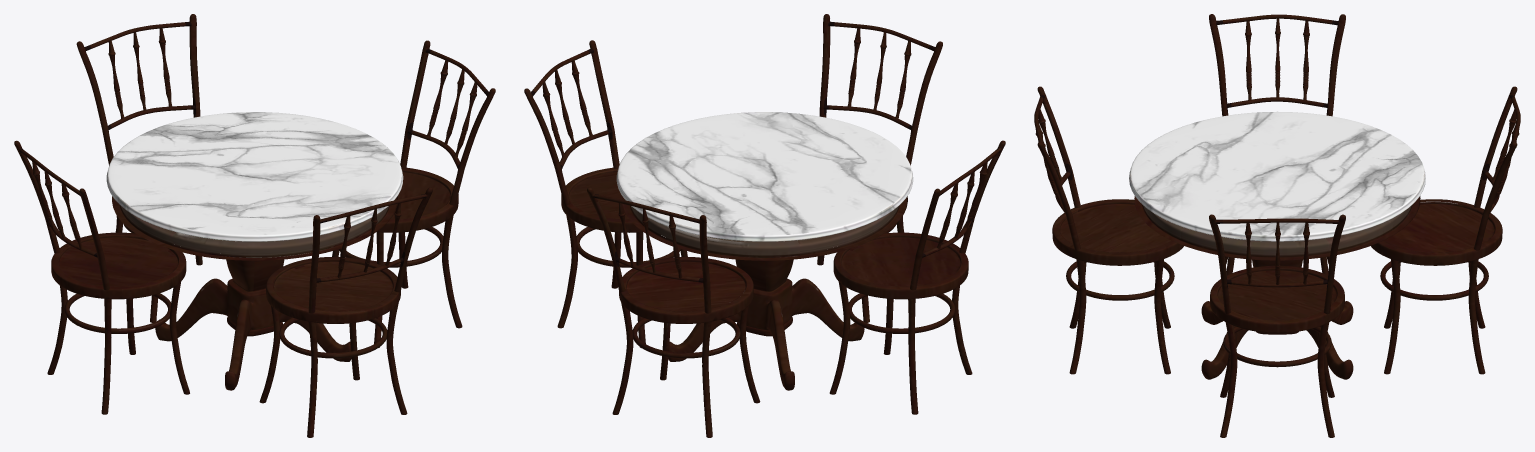
The model's file is coffeeshop_furniture_set.glb.
3 renders of one model, left to right at view 1: azimuth 30°, elevation 25°; view 2: azimuth 150°, elevation 25°; view 3: azimuth 270°, elevation 25°, orthographic.
Parts seen in each view (by area): view 1: table_wood_0, table_marble_top_0, table_table_stand_0, table_chair_underneath_0; view 2: table_wood_0, table_marble_top_0, table_table_stand_0, table_chair_underneath_0; view 3: table_wood_0, table_marble_top_0, table_chair_underneath_0, table_table_stand_0.
Boxes of the visible parts, x1,y1,x2,y2 form: table_wood_0: (14,14,495,437); table_marble_top_0: (106,112,403,241); table_table_stand_0: (155,259,351,390); table_chair_underneath_0: (121,206,388,255); table_wood_0: (524,14,1005,437); table_marble_top_0: (616,112,913,241); table_table_stand_0: (668,259,864,390); table_chair_underneath_0: (629,206,898,255); table_wood_0: (1034,14,1520,437); table_marble_top_0: (1129,111,1425,241); table_chair_underneath_0: (1143,205,1411,255); table_table_stand_0: (1201,259,1353,379).
Size of the model in its own units: 175 by 93.45 by 175.
Materials: 4 (4 with a texture image).
